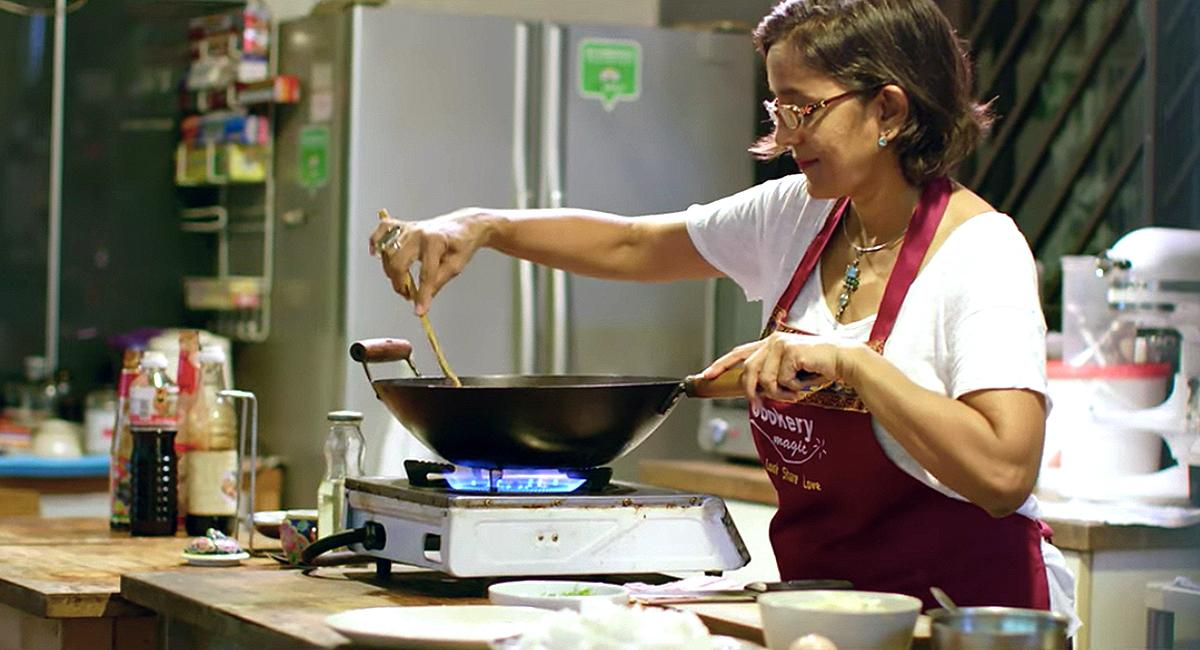controlled_fire: (386, 406, 631, 502)
